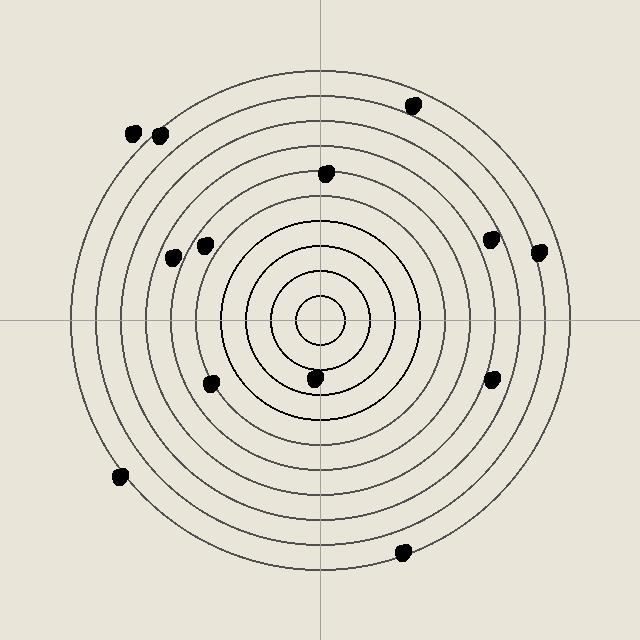random_scatter: (109, 466, 129, 486), (304, 368, 324, 388), (402, 95, 422, 115), (528, 242, 548, 262), (122, 123, 142, 143), (200, 373, 220, 393), (149, 125, 169, 145), (315, 163, 335, 183), (194, 235, 214, 255), (392, 542, 412, 562), (162, 247, 182, 267), (480, 229, 500, 249), (481, 369, 501, 389)
